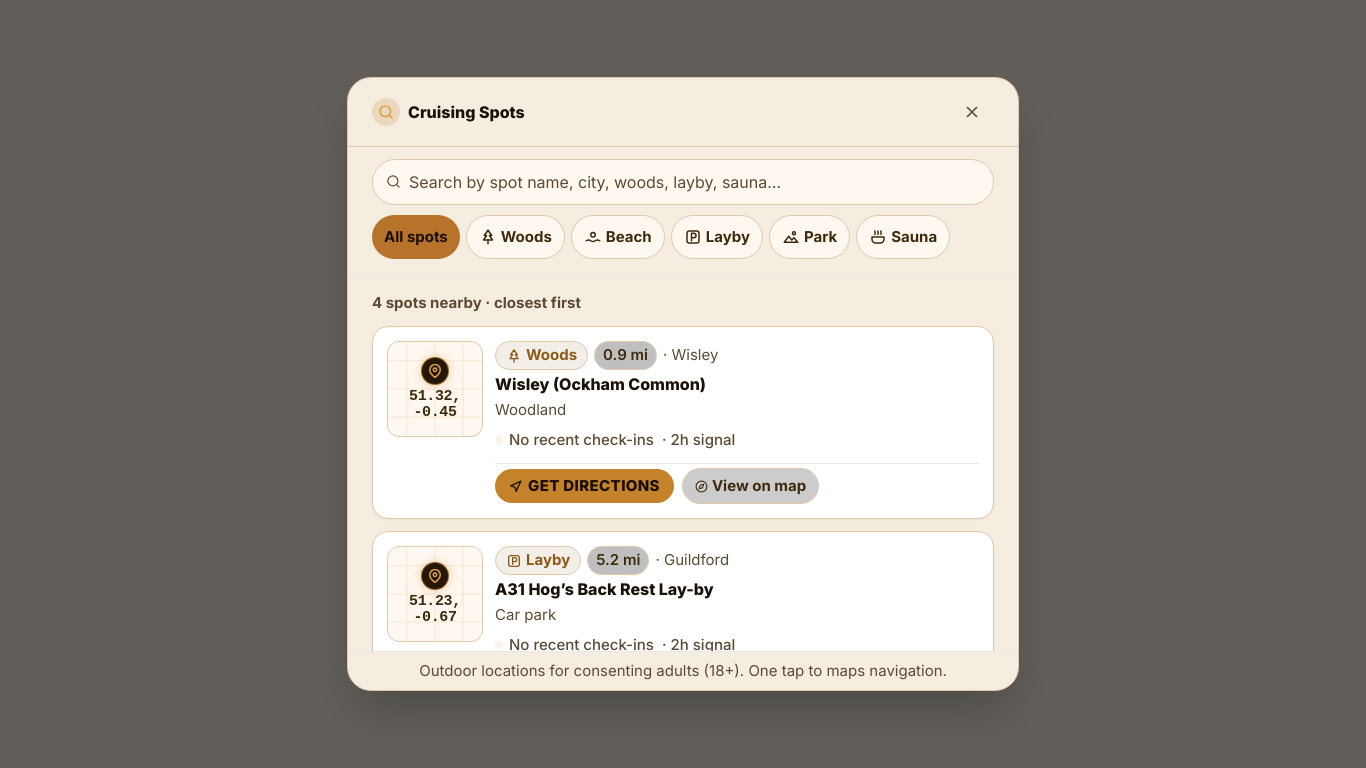
it: CruisingSearchSheet › allows filtering by category (e.g. Layby or Woods)
This screenshot has width=1366, height=768.
Check: the element with test id "cruising-spot-card-spot-ockham" is shown, box x1=372 y1=326 x2=994 y2=519
Click "Layby" tab
Click the tab "Layby" at (717, 237), box x1=671 y1=215 x2=763 y2=259
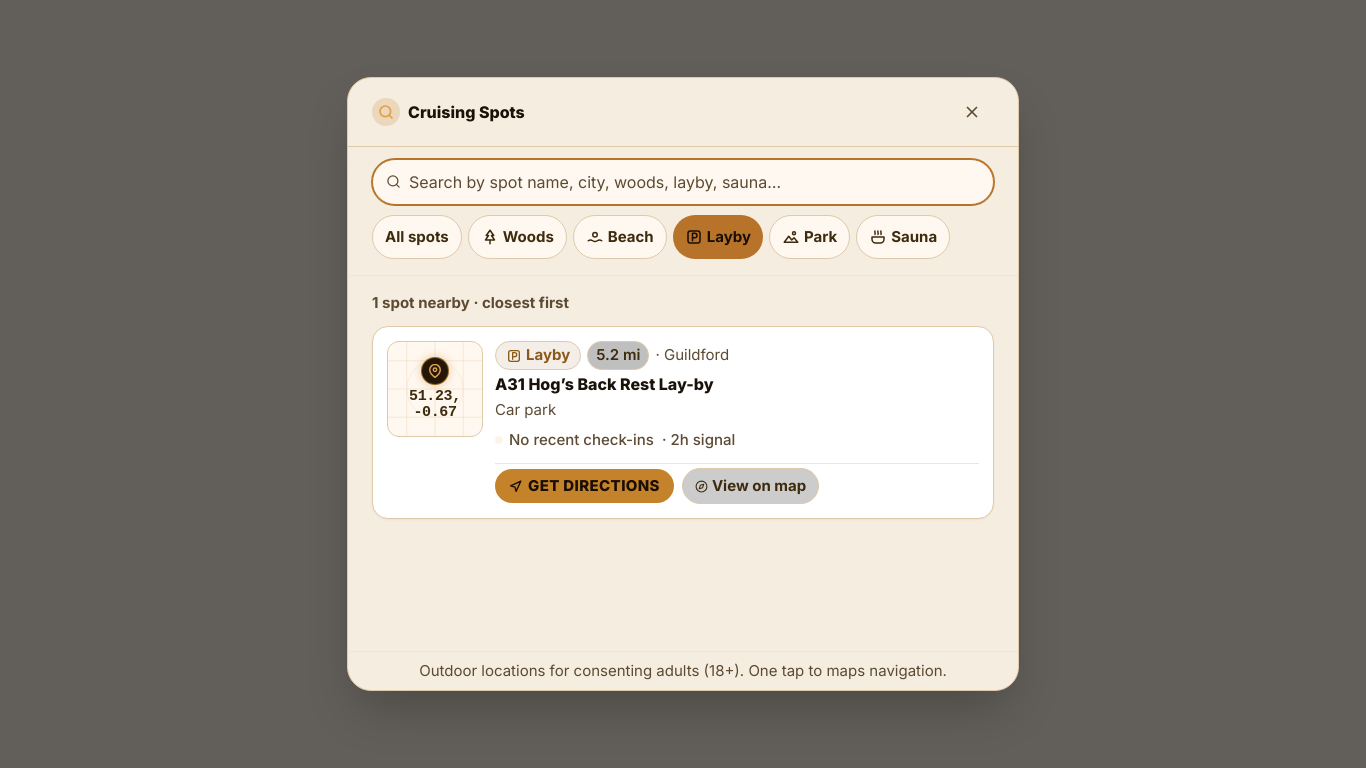
Check: the element with test id "cruising-spot-card-spot-hogs-back" is shown, box x1=372 y1=326 x2=994 y2=519
Check: the element with test id "cruising-spot-card-spot-ockham" is gone
